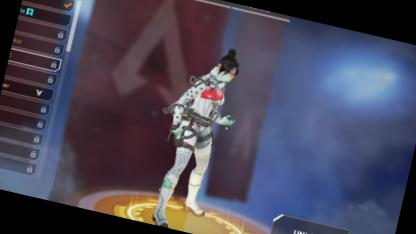Target: (158, 40, 245, 195)
